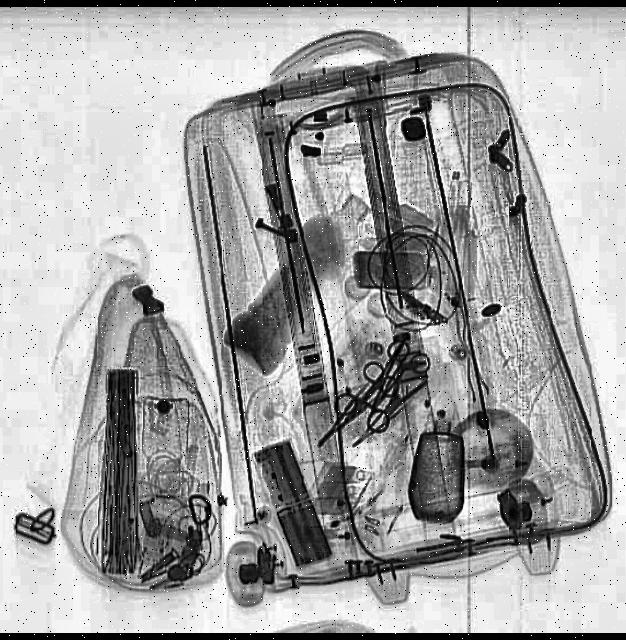Scissors: (331, 321, 430, 441), (302, 353, 404, 462), (361, 332, 433, 416)
